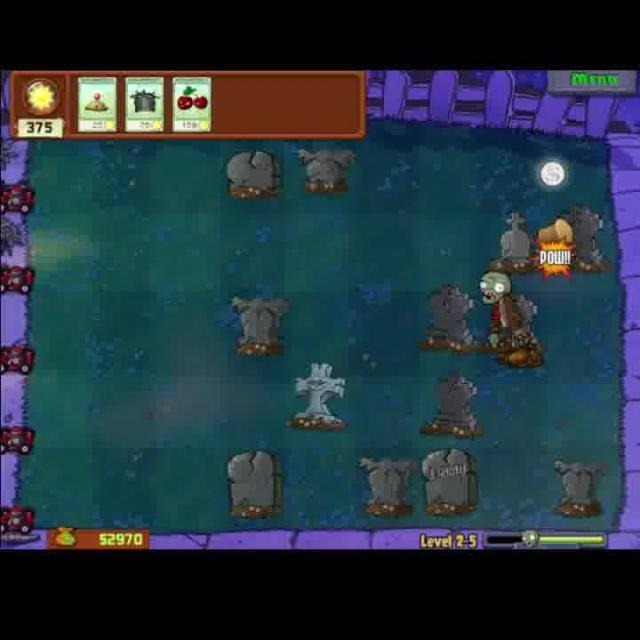coins: (534, 156, 568, 191)
zombies: (477, 266, 532, 370)
